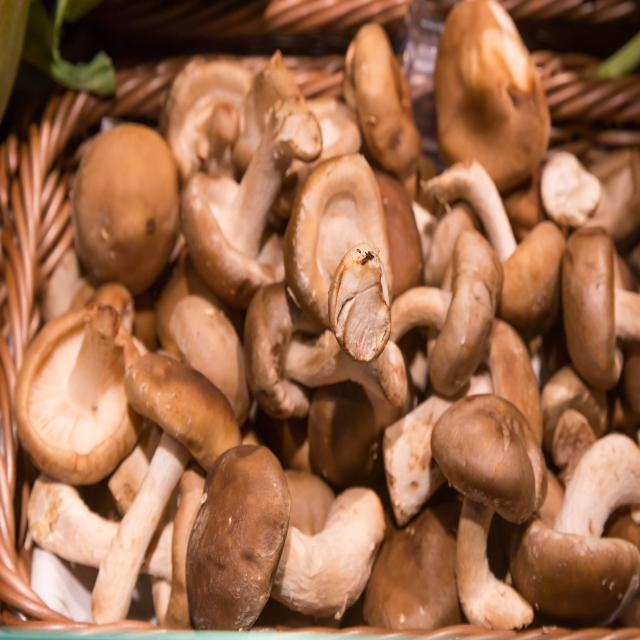Lentinus edodes: (98, 350, 240, 632), (186, 435, 384, 637), (182, 101, 322, 292), (431, 389, 539, 632), (513, 435, 640, 630), (287, 153, 393, 369), (18, 305, 146, 480), (435, 2, 553, 185), (74, 125, 181, 295), (562, 222, 640, 386), (386, 281, 495, 392), (342, 25, 419, 169)
